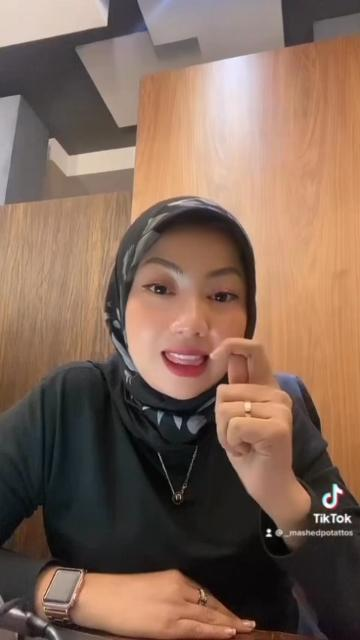T: (207, 335, 297, 495)
